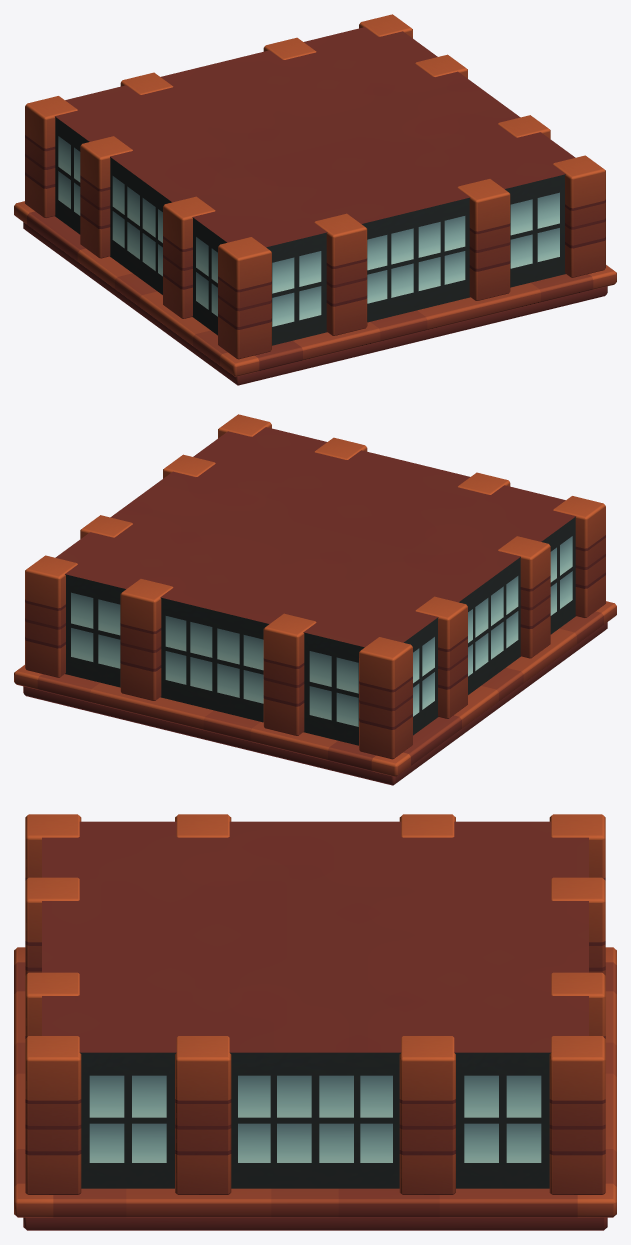
The model's file is office_building_type1_single_floor2_red.fbx.
3 views of the same model, one above another, from view 1: azimuth 30°, elevation 25°; view 2: azimuth 150°, elevation 25°; view 3: azimuth 270°, elevation 25° (orthographic). The views are drawn at different scales.
Parts seen in each view (by area): view 1: office_building_type1_single_floor2_red; view 2: office_building_type1_single_floor2_red; view 3: office_building_type1_single_floor2_red.
Boxes of the visible parts, x1,y1,x2,y2 form: office_building_type1_single_floor2_red: (14, 14, 616, 385); office_building_type1_single_floor2_red: (14, 414, 616, 785); office_building_type1_single_floor2_red: (14, 814, 616, 1230).
Bounding box in the file's own units: 1610 × 509 × 1610.
